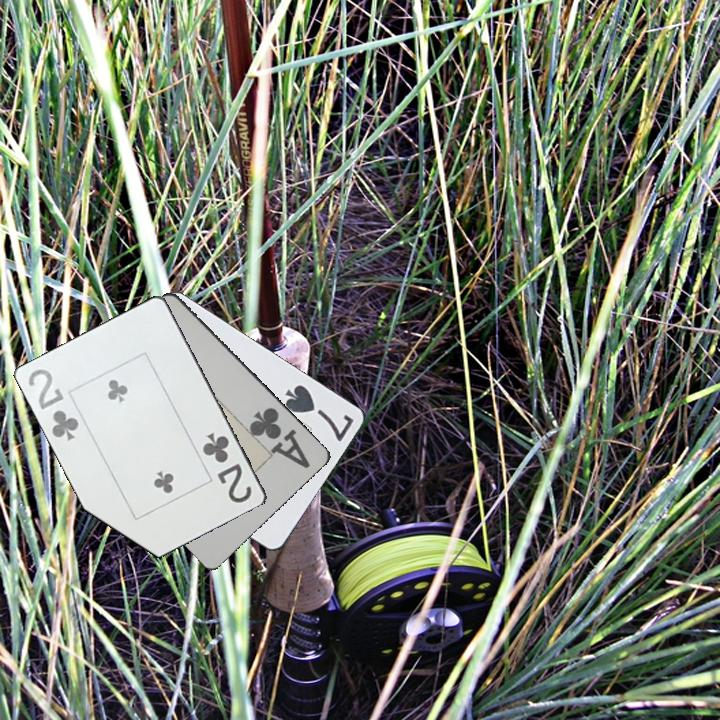2c: (25, 365, 82, 445), (199, 428, 255, 506)
7s: (281, 381, 357, 445)
Ac: (247, 404, 314, 472)
